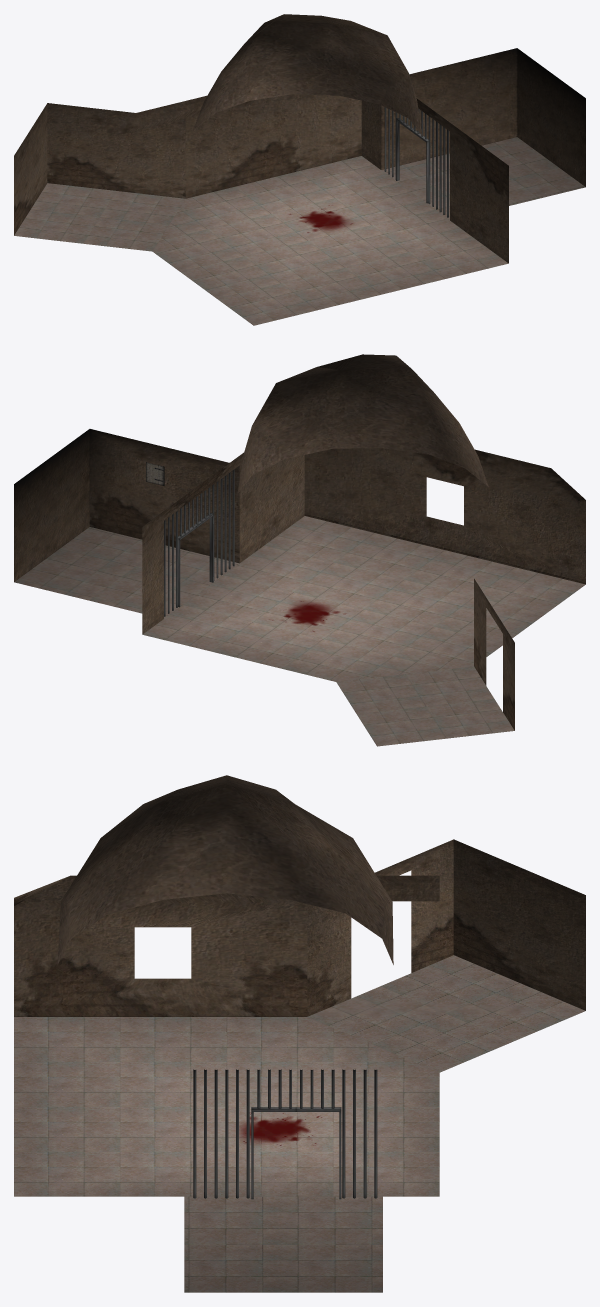
File: MISSION1_HUT_INTERIOR.glb
3 renders of one model, top to bottom at view 1: azimuth 30°, elevation 25°; view 2: azimuth 150°, elevation 25°; view 3: azimuth 270°, elevation 25°, orthographic. The views are drawn at different scales.
Visible parts, largest first — view 1: MISSION1_HUT_INTERIOR; view 2: MISSION1_HUT_INTERIOR; view 3: MISSION1_HUT_INTERIOR.
Part boxes in pixels (<box>): MISSION1_HUT_INTERIOR: <box>14,14,585,325</box>; MISSION1_HUT_INTERIOR: <box>14,354,585,746</box>; MISSION1_HUT_INTERIOR: <box>14,775,585,1292</box>.
Size of the model in its own units: 18.77 by 8.34 by 13.44.
8 materials, 8 textured.
